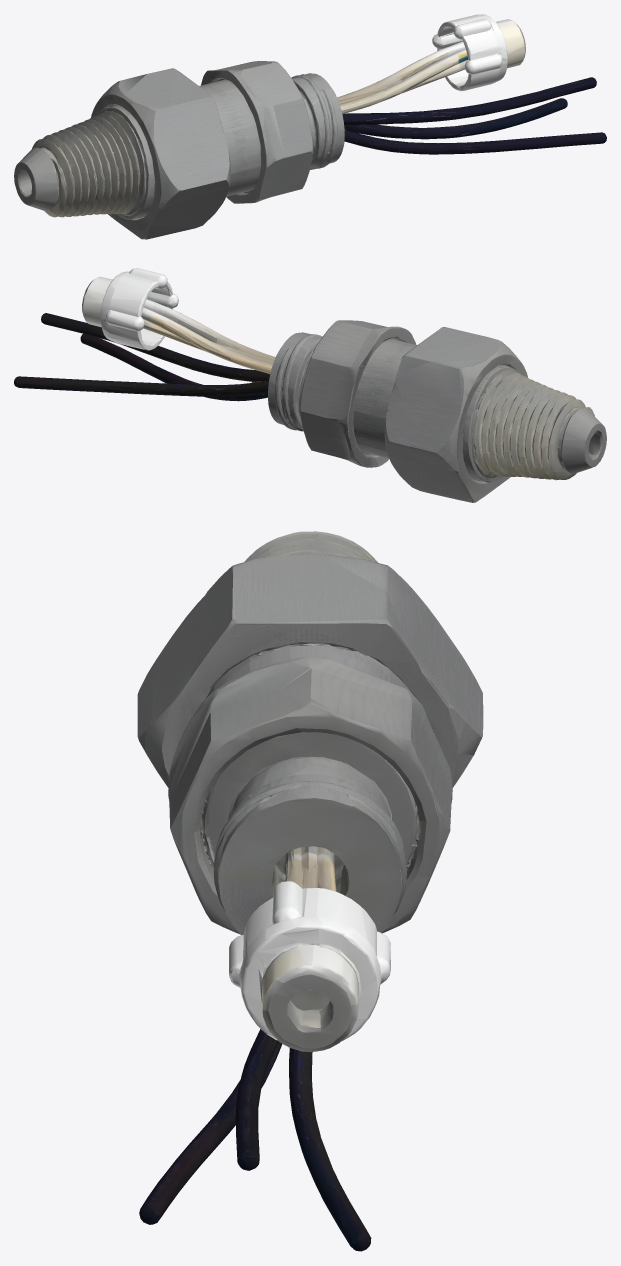
Rendered from lambda-sensor.glb.
The picture shows the model from 3 angles, top to bottom: view 1: azimuth 30°, elevation 25°; view 2: azimuth 150°, elevation 25°; view 3: azimuth 270°, elevation 25°; orthographic projection. The views are drawn at different scales.
Size of the model in its own units: 1.9 by 0.4252 by 0.5115.
1 material, 1 textured.
